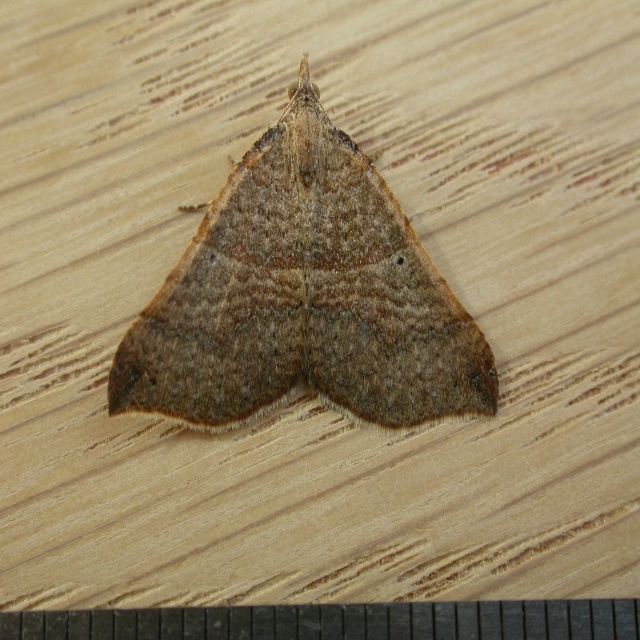Moths and butterflies: (108, 50, 501, 429)
